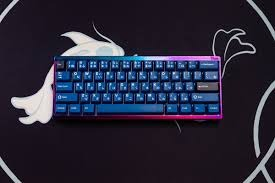keyboard: (47, 42, 225, 133)
